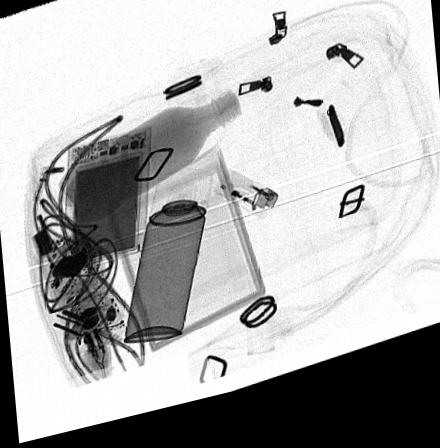Lighter: (212, 178, 280, 233)
Powerbank: (61, 134, 152, 276)
Sprayer: (122, 175, 214, 350)
